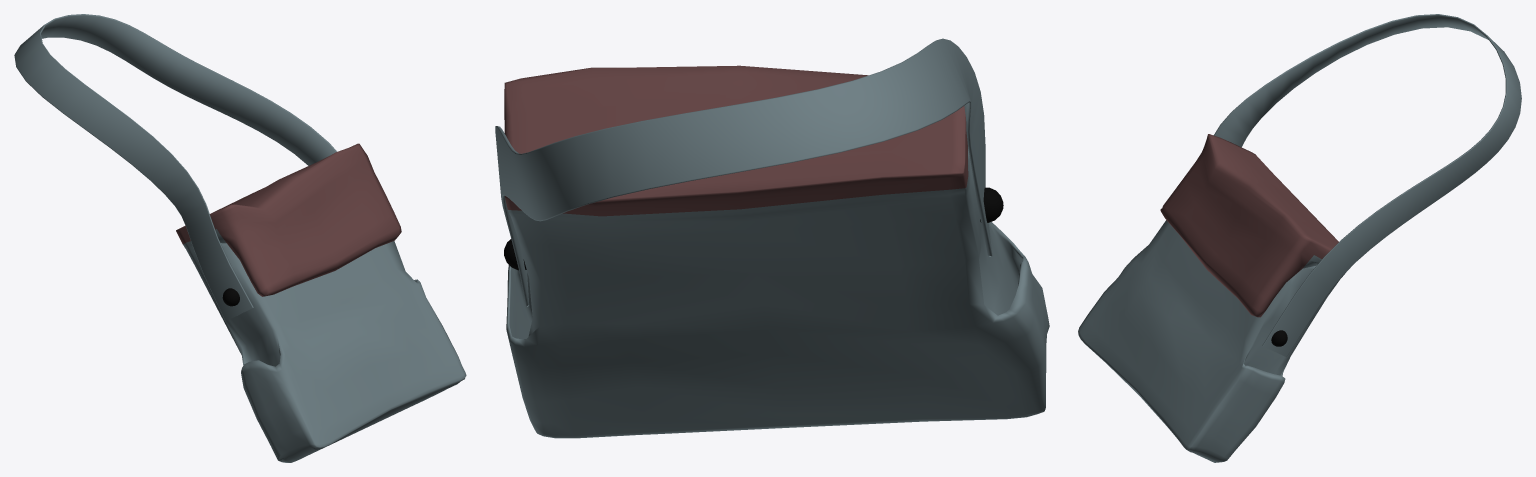
Rendered from SchoolBag1.fbx.
The picture shows the model from 3 angles, left to right: view 1: azimuth 30°, elevation 25°; view 2: azimuth 150°, elevation 25°; view 3: azimuth 270°, elevation 25°; orthographic projection. The views are drawn at different scales.
Visible parts, largest first — view 1: school bag1; view 2: school bag1; view 3: school bag1.
Boxes of the visible parts, x1,y1,x2,y2 form: school bag1: (14,14,466,462); school bag1: (495,38,1049,438); school bag1: (1078,14,1521,462).
Size of the model in its own units: 160 by 161 by 201.
